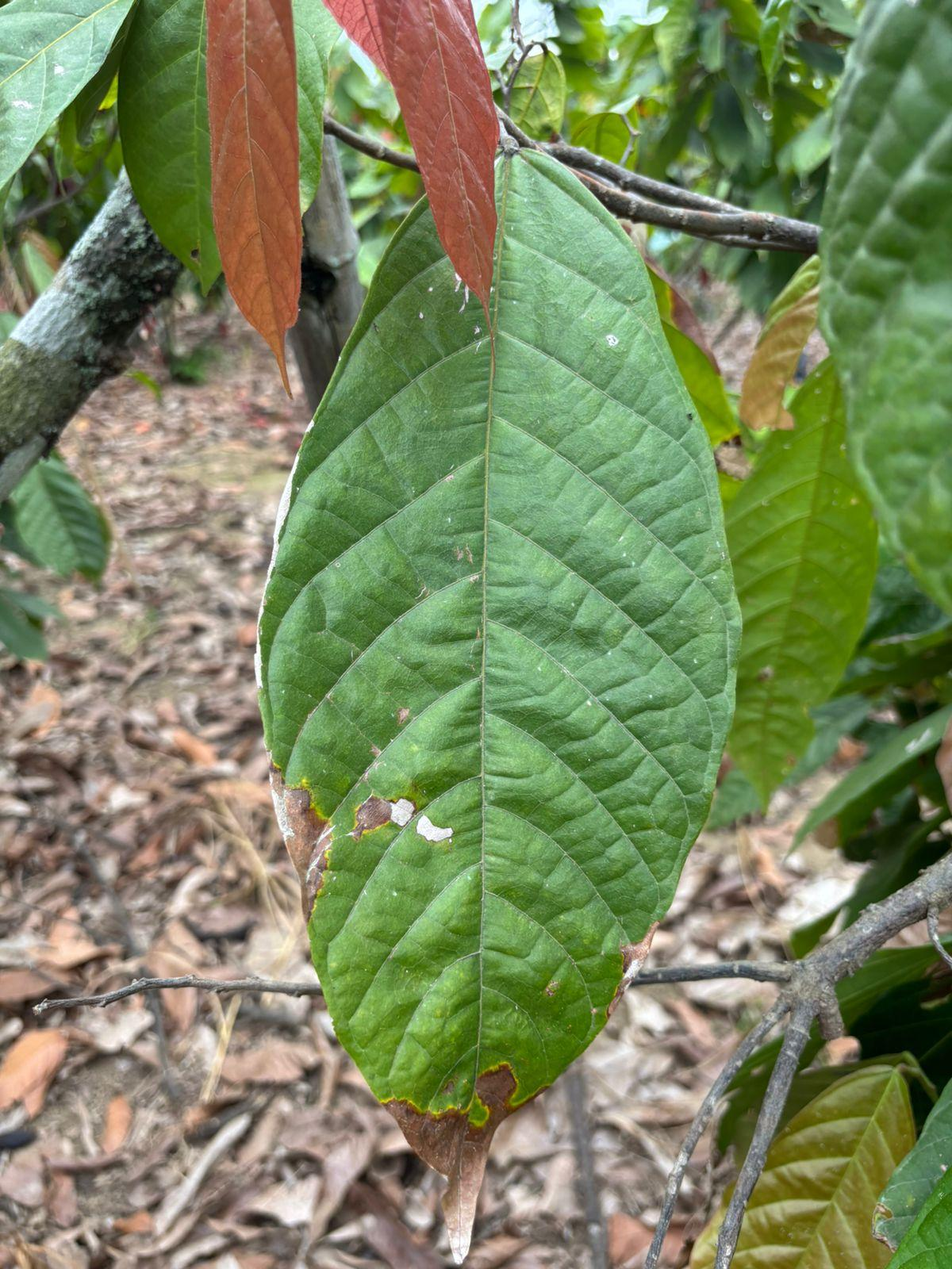deficiencia_potasio: (259, 152, 739, 1228)
